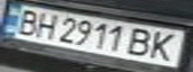1: (106, 22, 130, 54), (90, 20, 109, 51)
2: (54, 15, 78, 45)
9: (72, 17, 93, 47)
B: (124, 26, 157, 59), (9, 7, 45, 36)
H: (30, 10, 63, 39)
K: (145, 29, 184, 63)
